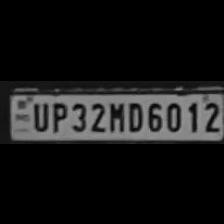0: (162, 99, 184, 131)
1: (182, 98, 200, 132)
2: (199, 97, 221, 130), (87, 97, 105, 130)
3: (68, 99, 86, 131)
6: (144, 97, 162, 130)
D: (124, 97, 144, 130)
M: (105, 98, 124, 132)
P: (48, 99, 68, 131)
U: (29, 98, 49, 130)
